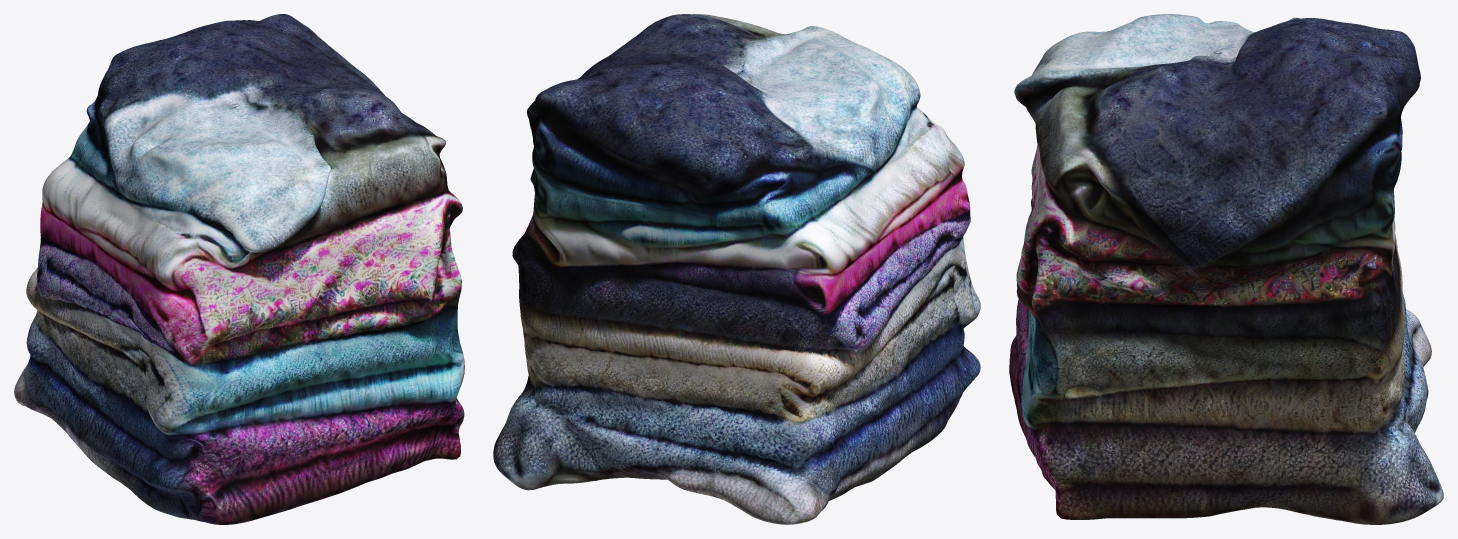
The model's file is clothes.dae.
3 renders of one model, left to right at view 1: azimuth 30°, elevation 25°; view 2: azimuth 150°, elevation 25°; view 3: azimuth 270°, elevation 25°, orthographic. The views are drawn at different scales.
Visible parts, largest first — view 1: pile_of_folded_clothes; view 2: pile_of_folded_clothes; view 3: pile_of_folded_clothes.
Part boxes in pixels (x1,y1,x2,y2): pile_of_folded_clothes: [14, 14, 464, 524]; pile_of_folded_clothes: [493, 14, 980, 524]; pile_of_folded_clothes: [1009, 14, 1443, 524].
Bounding box in the file's own units: 1.23 × 1.23 × 1.3.
